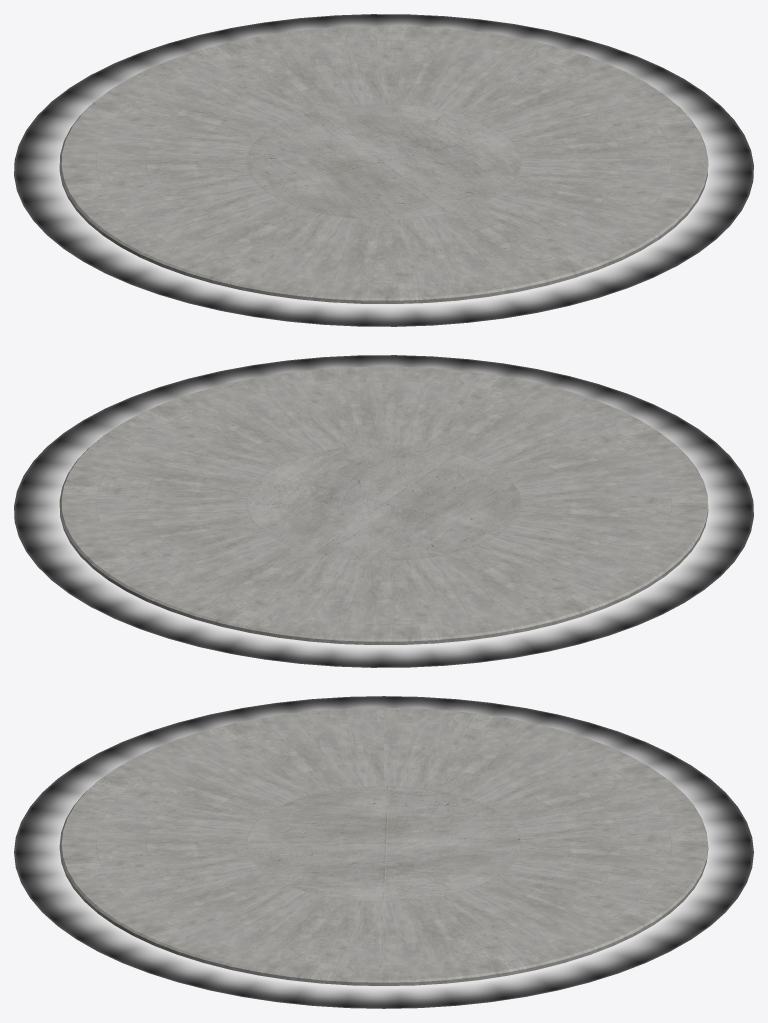
The model's file is FloorRound.fbx.
3 renders of one model, top to bottom at view 1: azimuth 30°, elevation 25°; view 2: azimuth 150°, elevation 25°; view 3: azimuth 270°, elevation 25°, orthographic.
Parts seen in each view (by area): view 1: Floor_Round, Floor_RoundGlow; view 2: Floor_Round, Floor_RoundGlow; view 3: Floor_Round, Floor_RoundGlow.
Boxes of the visible parts, left/top/right/bottom form: Floor_Round: left=59, top=25, right=708, bottom=303; Floor_RoundGlow: left=14, top=14, right=753, bottom=326; Floor_Round: left=59, top=366, right=708, bottom=644; Floor_RoundGlow: left=14, top=355, right=753, bottom=667; Floor_Round: left=59, top=707, right=708, bottom=985; Floor_RoundGlow: left=14, top=696, right=753, bottom=1008.
Bounding box in the file's own units: 11.32 × 0.1697 × 11.32.
